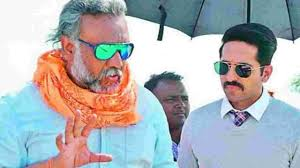Caution: (1, 1, 191, 166), (144, 21, 300, 165)
